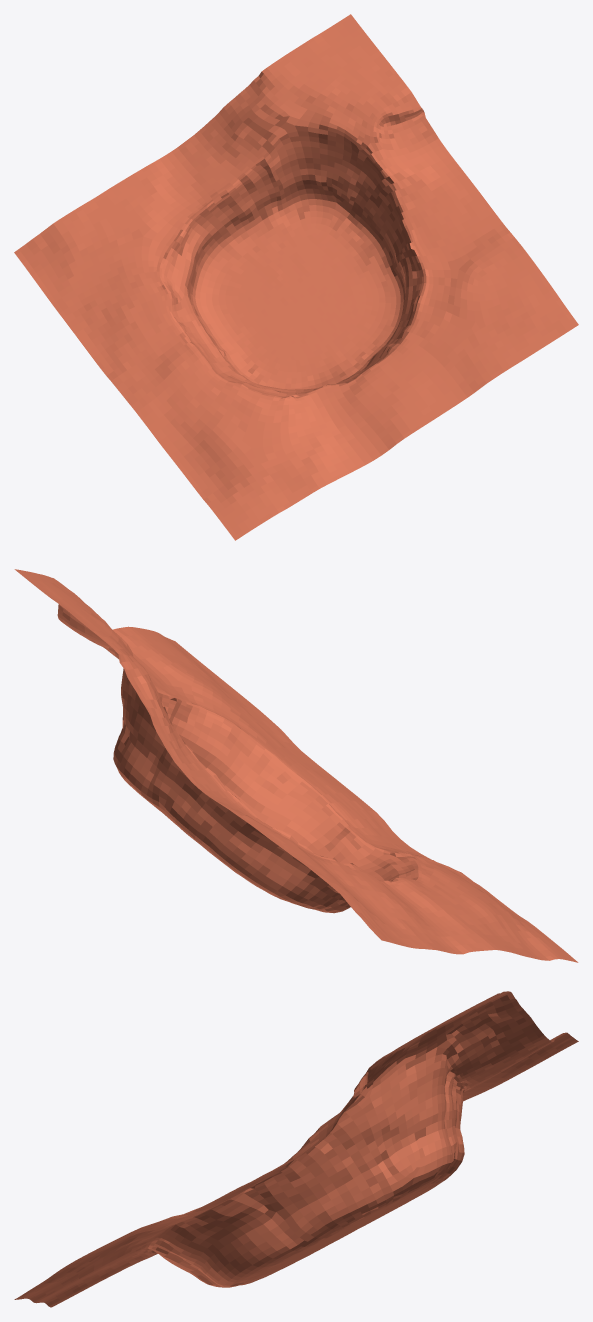
File: mars.fbx
3 renders of one model, top to bottom at view 1: azimuth 30°, elevation 25°; view 2: azimuth 150°, elevation 25°; view 3: azimuth 270°, elevation 25°, orthographic. The views are drawn at different scales.
Visible parts, largest first — view 1: node_id3; view 2: node_id3; view 3: node_id3.
Boxes of the visible parts, <box> form: node_id3: <box>14,14,578,540</box>; node_id3: <box>14,569,578,962</box>; node_id3: <box>14,991,578,1307</box>.
Size of the model in its own units: 0.5139 by 0.4715 by 0.5043.
Materials: 1 (1 with a texture image).
